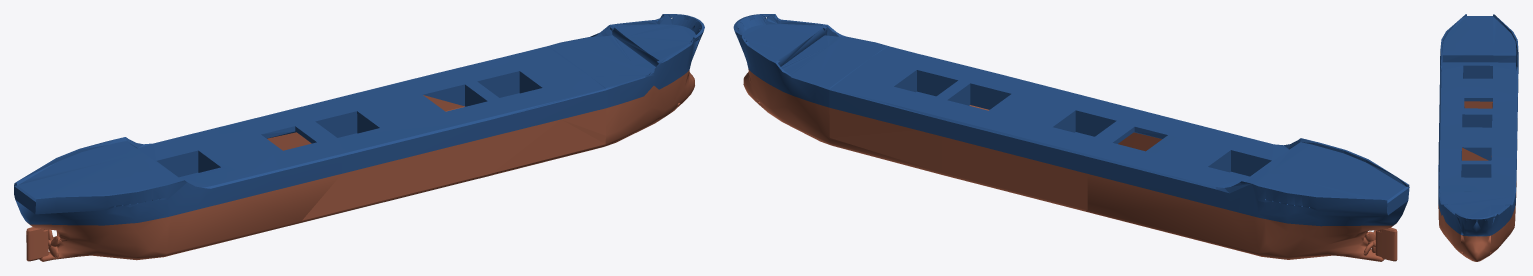
Rendered from 07 Cargo_Ship.FBX.
The picture shows the model from 3 angles, left to right: view 1: azimuth 30°, elevation 25°; view 2: azimuth 150°, elevation 25°; view 3: azimuth 270°, elevation 25°; orthographic projection. The views are drawn at different scales.
Parts seen in each view (by area): view 1: Cargo_Ship; view 2: Cargo_Ship; view 3: Cargo_Ship.
Boxes of the visible parts, x1=… form: Cargo_Ship: x1=14, y1=14, x2=704, y2=261; Cargo_Ship: x1=733, y1=14, x2=1409, y2=261; Cargo_Ship: x1=1438, y1=14, x2=1518, y2=261.
Bounding box in the file's own units: 9103 × 1067 × 1465.
